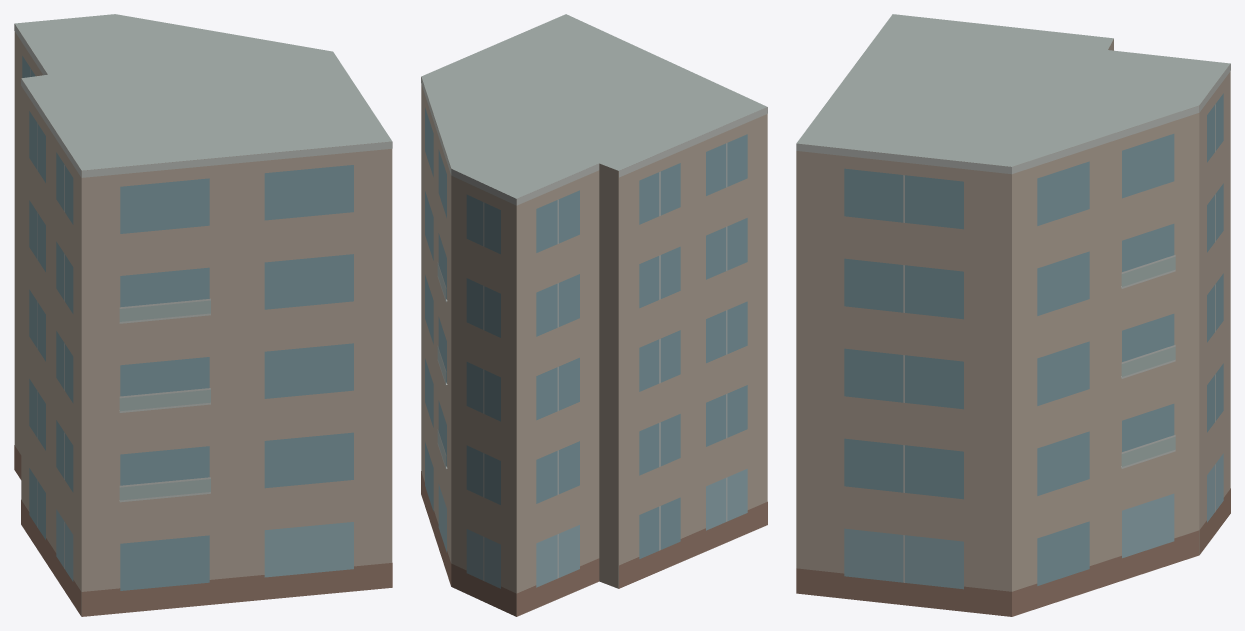
Rendered from survey-upis-32777899.glb.
3 renders of one model, left to right at view 1: azimuth 30°, elevation 25°; view 2: azimuth 150°, elevation 25°; view 3: azimuth 270°, elevation 25°, orthographic. The views are drawn at different scales.
Parts seen in each view (by area): view 1: survey-upis-32777899.tmp; view 2: survey-upis-32777899.tmp; view 3: survey-upis-32777899.tmp.
Part boxes in pixels (x1=…): survey-upis-32777899.tmp: x1=14, y1=14, x2=392, y2=616; survey-upis-32777899.tmp: x1=421, y1=14, x2=767, y2=616; survey-upis-32777899.tmp: x1=796, y1=14, x2=1230, y2=616.
Bounding box in the file's own units: 10.87 × 14.9 × 13.05.
